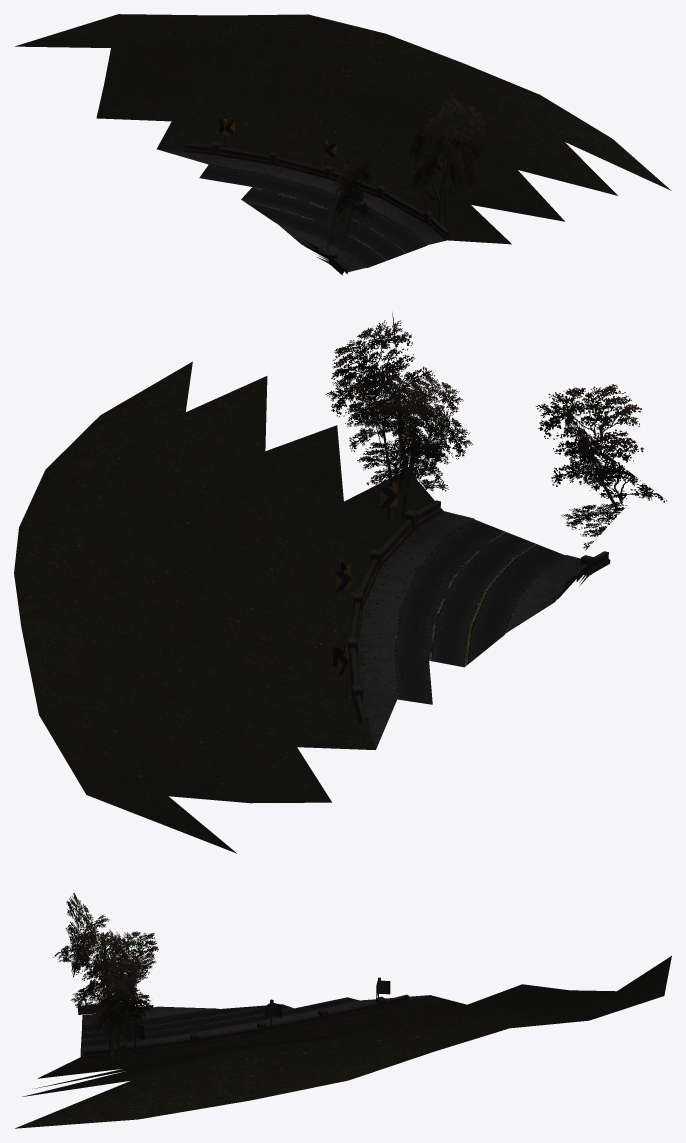
The model's file is cell_6_-12.gltf.
The picture shows the model from 3 angles, top to bottom: view 1: azimuth 30°, elevation 25°; view 2: azimuth 150°, elevation 25°; view 3: azimuth 270°, elevation 25°; orthographic projection. The views are drawn at different scales.
Parts seen in each view (by area): view 1: cell_6_-12; view 2: cell_6_-12; view 3: cell_6_-12.
Boxes of the visible parts, x1,y1,x2,y2 form: cell_6_-12: (15,14,671,275); cell_6_-12: (14,313,666,853); cell_6_-12: (15,893,671,1128).
Bounding box in the file's own units: 68.43 × 27.71 × 109.
Materials: 12 (12 with a texture image).
